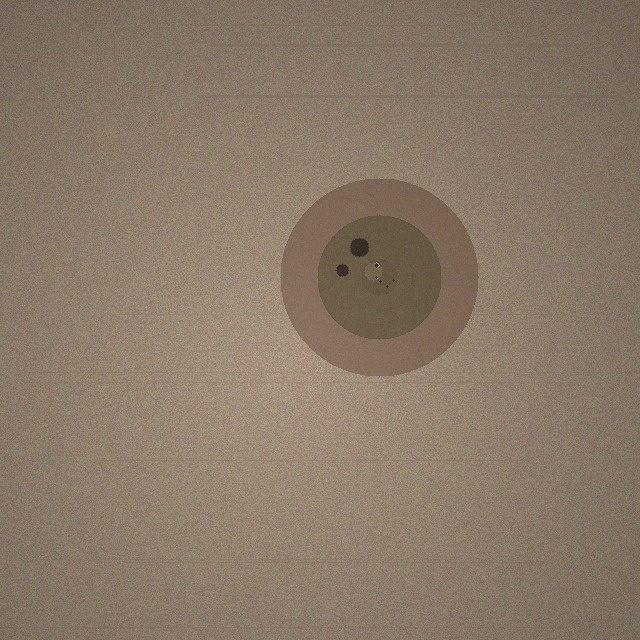shrinkage: (280, 178, 478, 376)
